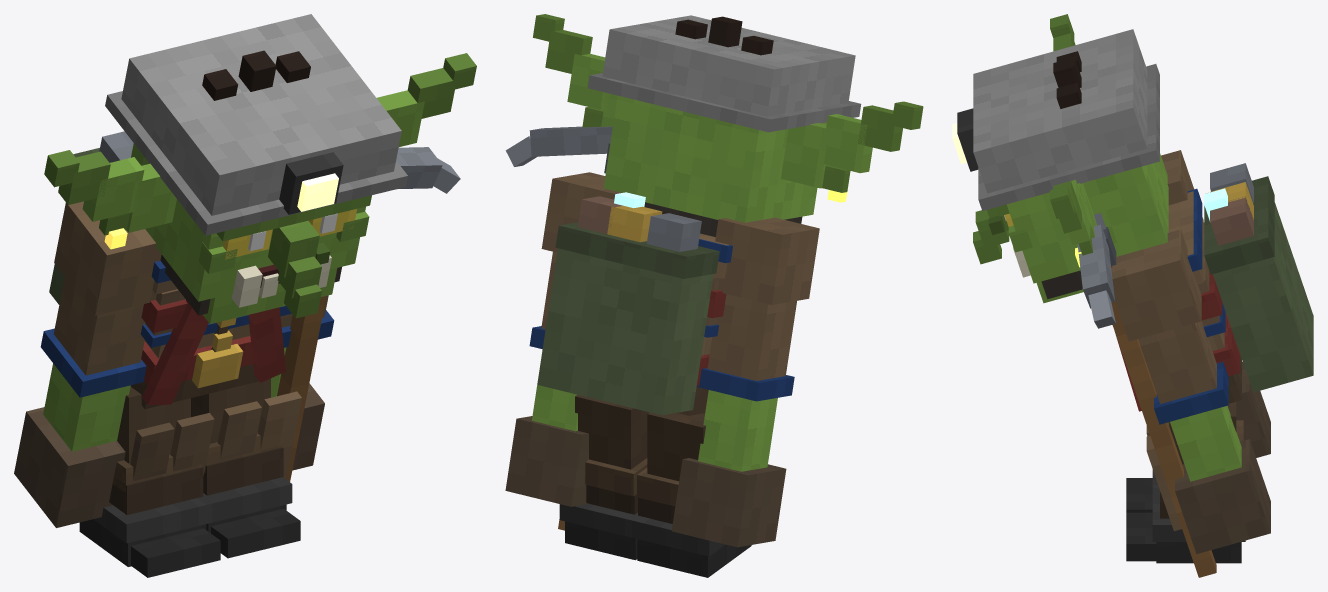
Rendered from goblin_mineur_v3.glb.
The picture shows the model from 3 angles, left to right: view 1: azimuth 30°, elevation 25°; view 2: azimuth 150°, elevation 25°; view 3: azimuth 270°, elevation 25°; orthographic projection. The views are drawn at different scales.
Parts seen in each view (by area): view 1: Head, ArmR, Torso, LegR, LegL, HandL, ArmL; view 2: Head, Torso, ArmR, ArmL, LegL, LegR, HandL; view 3: Head, ArmL, Torso, HandL, LegL, ArmR, LegR.
Part boxes in pixels (x1,y1,x2,y2): Head: [44, 14, 476, 323]; ArmR: [14, 201, 161, 527]; Torso: [49, 131, 301, 481]; LegR: [79, 387, 220, 577]; LegL: [191, 378, 300, 558]; HandL: [277, 147, 460, 481]; ArmL: [271, 295, 334, 470]; Head: [533, 14, 923, 236]; Torso: [537, 192, 732, 415]; ArmR: [671, 217, 819, 547]; ArmL: [505, 172, 621, 506]; LegL: [559, 394, 649, 560]; LegR: [632, 412, 751, 577]; HandL: [505, 126, 612, 530]; Head: [952, 14, 1168, 303]; ArmL: [1111, 229, 1270, 554]; Torso: [1116, 163, 1313, 531]; HandL: [1077, 213, 1216, 577]; LegL: [1126, 402, 1245, 563]; ArmR: [1161, 150, 1270, 457]; LegR: [1126, 420, 1243, 512].
Bounding box in the file's own units: 1.12 × 1.33 × 0.9227.
49 materials, 49 textured.
